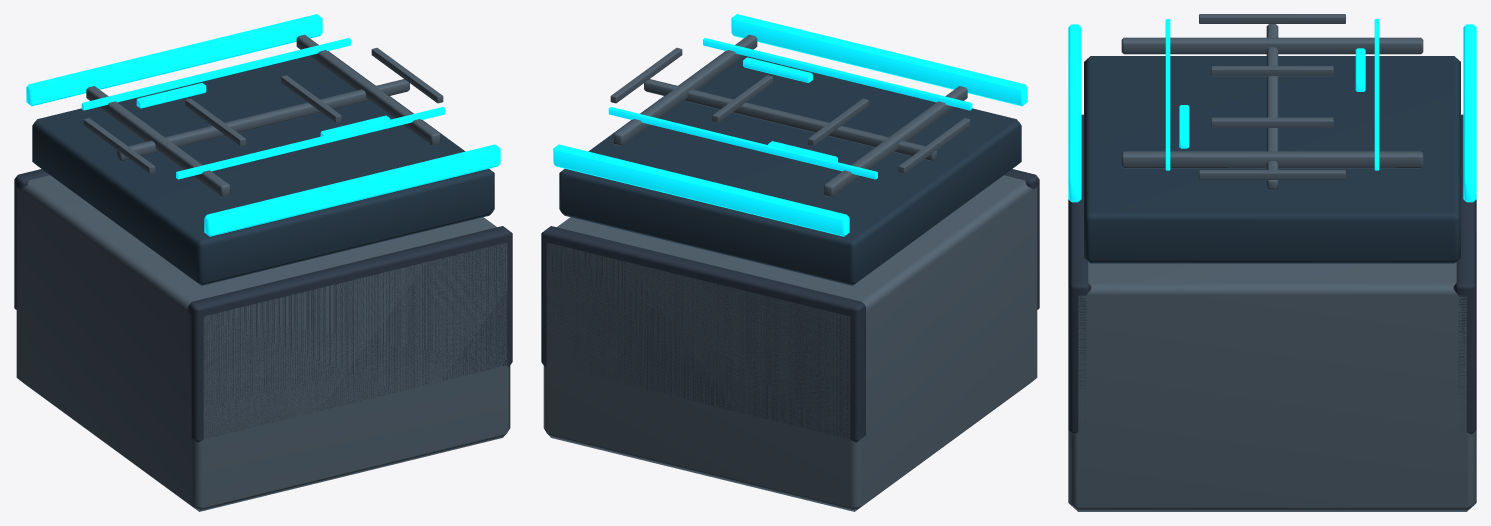
File: track_slab.glb
3 views of the same model, side by side, from view 1: azimuth 30°, elevation 25°; view 2: azimuth 150°, elevation 25°; view 3: azimuth 270°, elevation 25° (orthographic). The views are drawn at different scales.
Visible parts, largest first — view 1: DeckBase, DeckTop, RightSideSkirt, RightEdgeGlow, LeftEdgeGlow, CenterCable, PanelSeamA, PanelSeamB, RightLaneHairline, LeftLaneHairline, DeckServiceLineD, DeckServiceLineA (+4 smaller); view 2: DeckBase, DeckTop, LeftSideSkirt, LeftEdgeGlow, RightEdgeGlow, CenterCable, PanelSeamA, PanelSeamB, LeftLaneHairline, RightLaneHairline, DeckServiceLineD, DeckServiceLineA (+4 smaller); view 3: DeckBase, DeckTop, PanelSeamB, PanelSeamA, RightSideSkirt, LeftSideSkirt, LeftEdgeGlow, RightEdgeGlow, CenterCable, DeckServiceLineA, DeckServiceLineD, DeckServiceLineB (+5 smaller).
Boxes of the visible parts, x1,y1,x2,y2 form: DeckBase: (16, 175, 510, 511); DeckTop: (32, 51, 494, 285); RightSideSkirt: (188, 226, 512, 442); RightEdgeGlow: (204, 144, 500, 236); LeftEdgeGlow: (26, 14, 322, 106); CenterCable: (117, 79, 409, 161); PanelSeamA: (86, 86, 230, 197); PanelSeamB: (296, 34, 440, 145); RightLaneHairline: (176, 107, 445, 179); LeftLaneHairline: (81, 38, 350, 110); DeckServiceLineD: (371, 47, 443, 103); DeckServiceLineA: (83, 118, 155, 173); DeckBase: (543, 175, 1037, 511); DeckTop: (559, 51, 1021, 285); LeftSideSkirt: (541, 226, 865, 442); LeftEdgeGlow: (553, 144, 849, 236); RightEdgeGlow: (731, 14, 1027, 106); CenterCable: (644, 79, 936, 161); PanelSeamA: (823, 86, 967, 197); PanelSeamB: (613, 34, 757, 145); LeftLaneHairline: (608, 107, 877, 179); RightLaneHairline: (703, 38, 972, 110); DeckServiceLineD: (610, 47, 682, 103); DeckServiceLineA: (898, 118, 970, 173); DeckBase: (1068, 262, 1476, 511); DeckTop: (1084, 56, 1460, 263); PanelSeamB: (1121, 151, 1423, 168); PanelSeamA: (1121, 37, 1423, 54); RightSideSkirt: (1068, 114, 1091, 434); LeftSideSkirt: (1453, 114, 1476, 434); LeftEdgeGlow: (1463, 24, 1476, 202); RightEdgeGlow: (1068, 24, 1081, 202); CenterCable: (1266, 24, 1278, 190); DeckServiceLineA: (1199, 14, 1345, 23); DeckServiceLineD: (1199, 170, 1345, 179); DeckServiceLineB: (1211, 66, 1333, 76).
Size of the model in its own units: 0.5 by 0.458 by 0.5.
